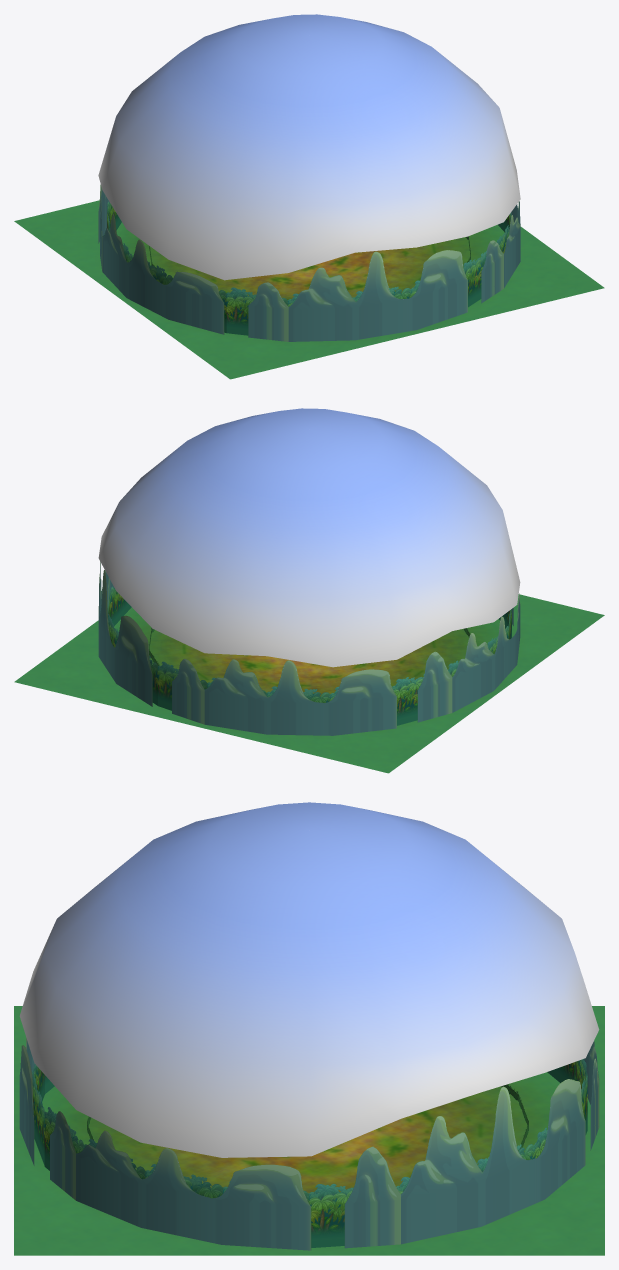
The model's file is JungleBG.FBX.
The picture shows the model from 3 angles, top to bottom: view 1: azimuth 30°, elevation 25°; view 2: azimuth 150°, elevation 25°; view 3: azimuth 270°, elevation 25°; orthographic projection. The views are drawn at different scales.
Visible parts, largest first — view 1: Sky, Ground, BG_Trees14, BG_Trees10; view 2: Sky, Ground, BG_Trees18, BG_Trees02, BG_Trees06; view 3: Sky, Ground, BG_Trees06, BG_Trees11, BG_Trees10, BG_Trees08.
Boxes of the visible parts, bbox=[...] form: Sky: bbox=[98, 14, 520, 341]; Ground: bbox=[14, 200, 604, 379]; BG_Trees14: bbox=[226, 287, 288, 335]; BG_Trees10: bbox=[463, 251, 486, 307]; Sky: bbox=[98, 408, 520, 735]; Ground: bbox=[14, 594, 604, 773]; BG_Trees18: bbox=[392, 674, 424, 725]; BG_Trees02: bbox=[158, 661, 207, 710]; BG_Trees06: bbox=[110, 586, 131, 626]; Sky: bbox=[19, 802, 599, 1250]; Ground: bbox=[14, 1006, 604, 1255]; BG_Trees06: bbox=[309, 1183, 353, 1247]; BG_Trees11: bbox=[32, 1071, 44, 1165]; BG_Trees10: bbox=[44, 1107, 84, 1170]; BG_Trees08: bbox=[145, 1164, 223, 1198].
Bounding box in the file's own units: 8500 × 8500 × 4761.
